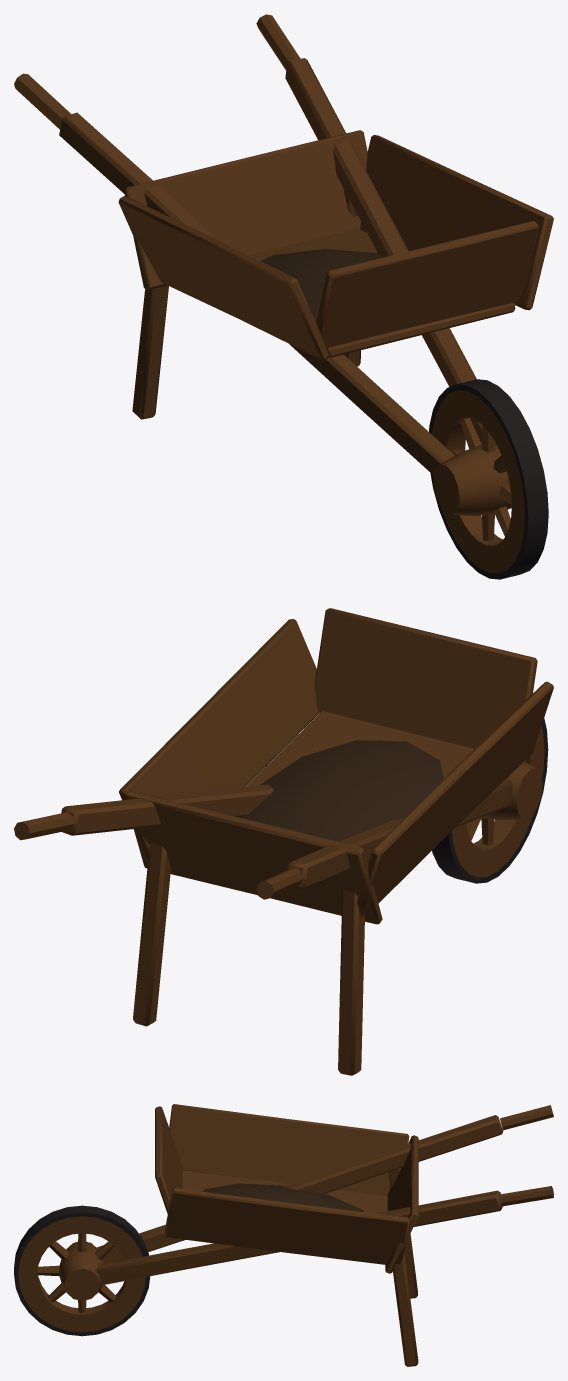
File: schubkarre.glb
The picture shows the model from 3 angles, top to bottom: view 1: azimuth 30°, elevation 25°; view 2: azimuth 150°, elevation 25°; view 3: azimuth 270°, elevation 25°; orthographic projection. The views are drawn at different scales.
Parts seen in each view (by area): view 1: schubkarre; view 2: schubkarre; view 3: schubkarre.
Boxes of the visible parts, x1=… form: schubkarre: x1=14, y1=14, x2=553, y2=579; schubkarre: x1=14, y1=608, x2=553, y2=1075; schubkarre: x1=14, y1=1104, x2=553, y2=1366.
Size of the model in its own units: 0.6993 by 0.7095 by 1.8.
